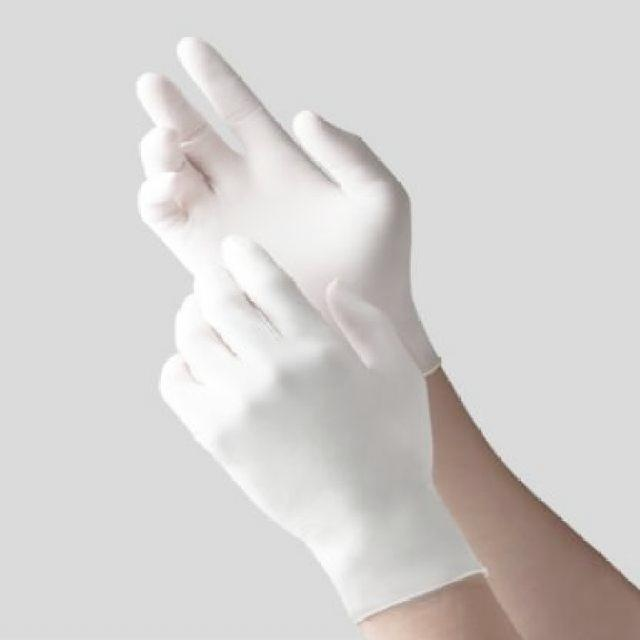Guantes: (132, 231, 475, 625), (137, 30, 447, 340)
